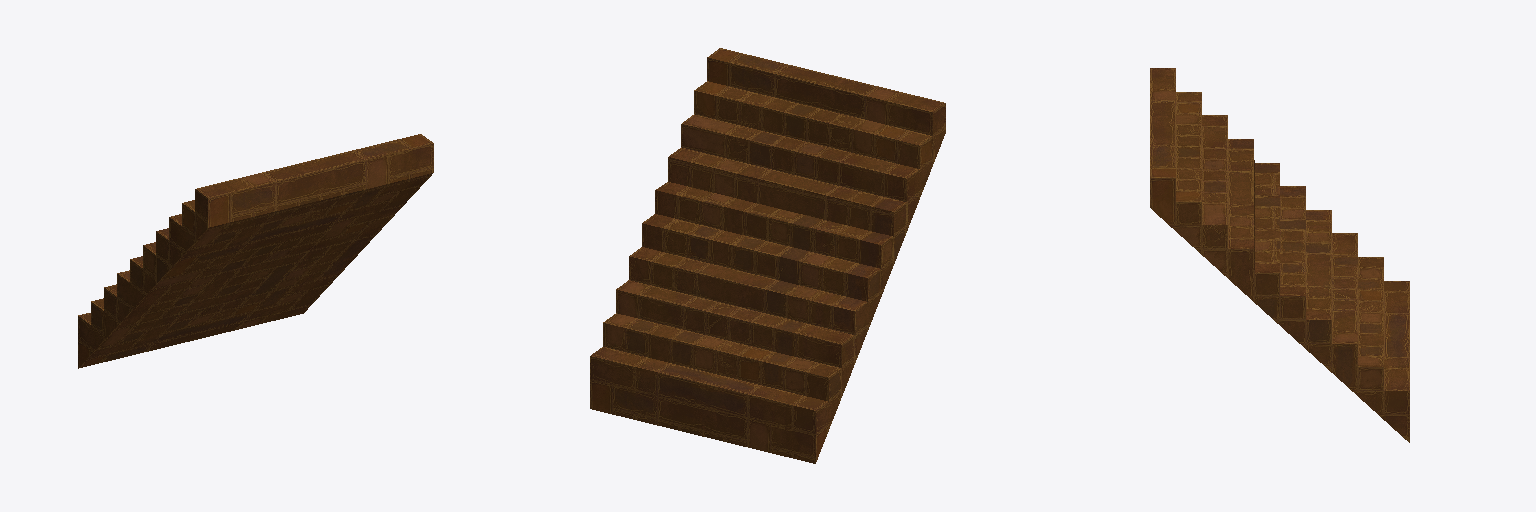
3 renders of one model, left to right at view 1: azimuth 30°, elevation 25°; view 2: azimuth 150°, elevation 25°; view 3: azimuth 270°, elevation 25°, orthographic.
Parts seen in each view (by area): view 1: stairway1-cement; view 2: stairway1-cement; view 3: stairway1-cement.
Boxes of the visible parts, box(x1,y1,x2,y2) form: stairway1-cement: box(78, 134, 433, 368); stairway1-cement: box(590, 48, 945, 463); stairway1-cement: box(1150, 68, 1409, 442).
Size of the model in its own units: 1 by 1.12 by 1.
Materials: 1 (1 with a texture image).